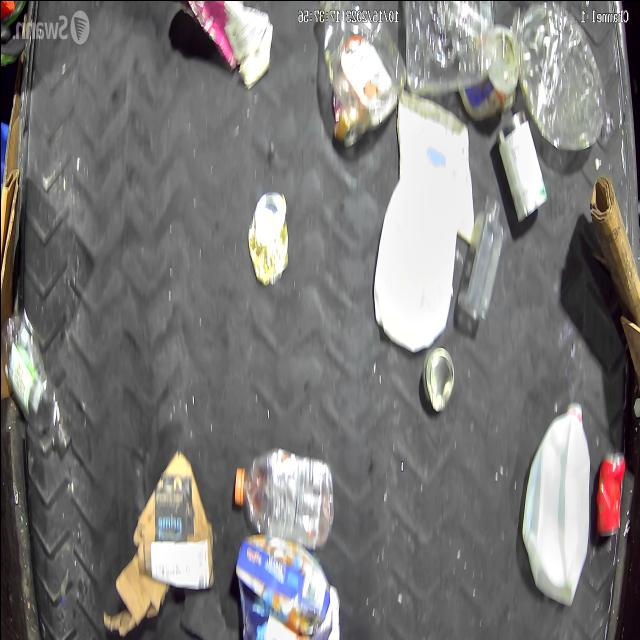can: (250, 182, 292, 283), (421, 344, 457, 412), (599, 450, 625, 540)
milk_jug: (376, 149, 458, 339), (526, 397, 588, 594)
plastic_bottle: (515, 12, 617, 147), (231, 452, 328, 540), (9, 310, 64, 446)
